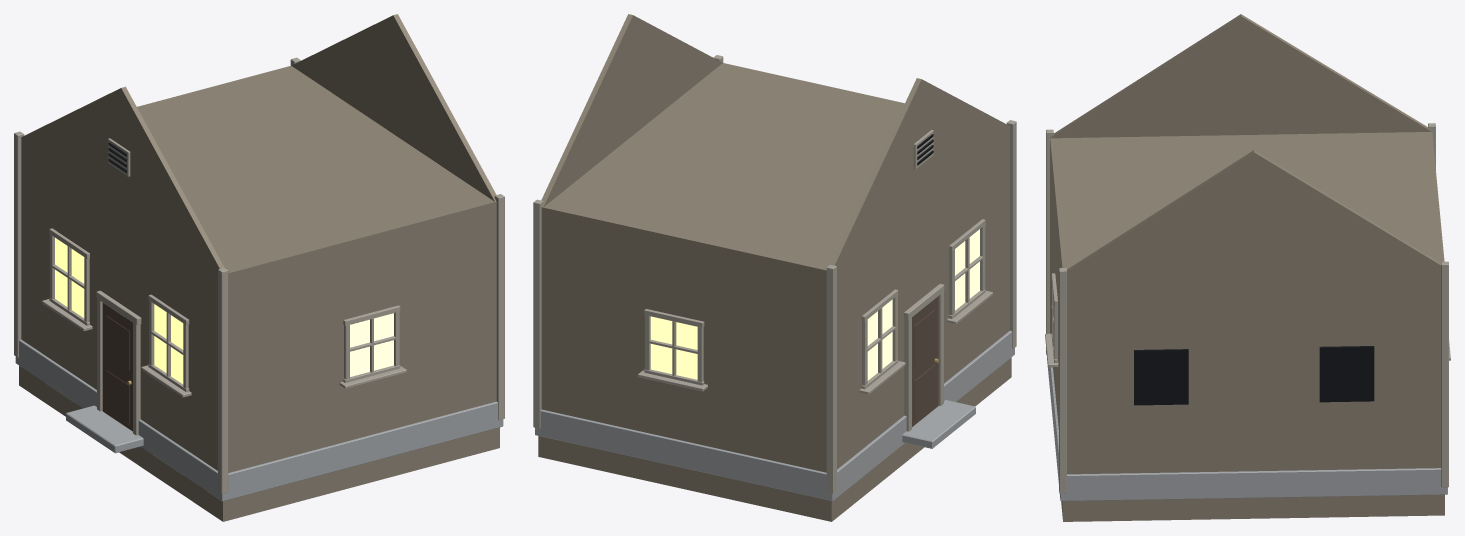
The model's file is house7_walls.glb.
3 views of the same model, side by side, from view 1: azimuth 30°, elevation 25°; view 2: azimuth 150°, elevation 25°; view 3: azimuth 270°, elevation 25° (orthographic).
Parts seen in each view (by area): view 1: house7_walls; view 2: house7_walls; view 3: house7_walls.
Boxes of the visible parts, x1=… form: house7_walls: x1=14, y1=14, x2=504, y2=521; house7_walls: x1=533, y1=14, x2=1016, y2=521; house7_walls: x1=1045, y1=14, x2=1450, y2=521.
Size of the model in its own units: 6.91 by 7.4 by 7.43.
